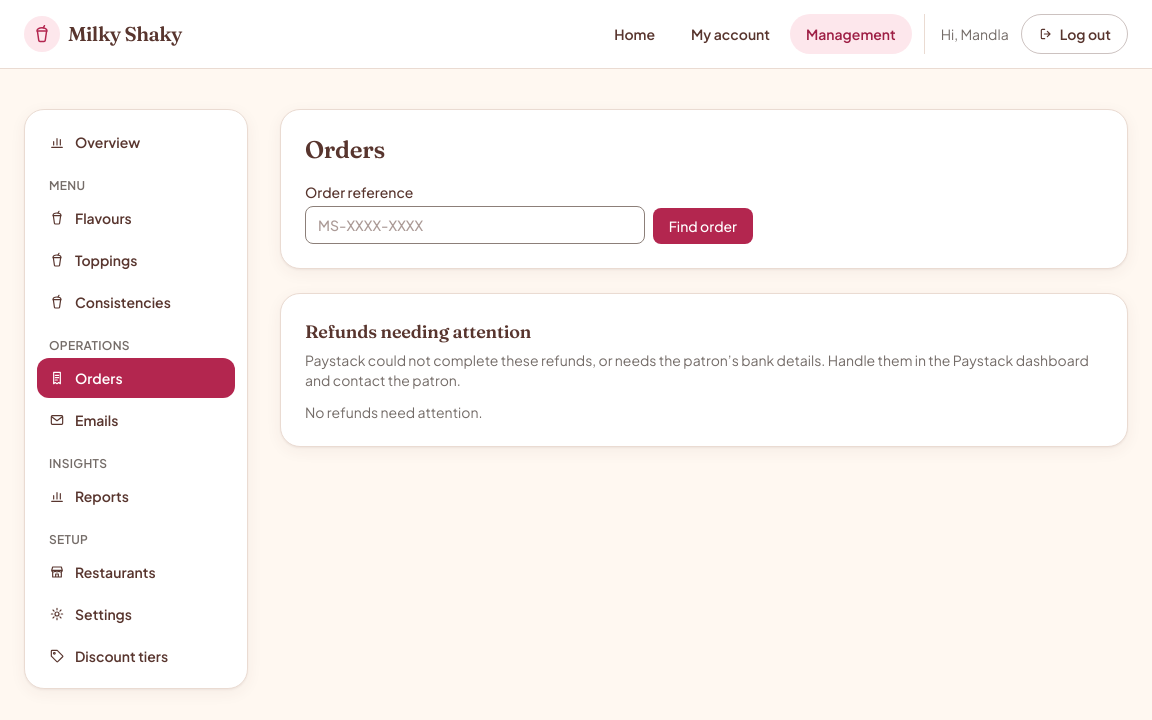
Management → Orders › says when no order has the reference
This screenshot has width=1152, height=720.
Type "MS-0000-0000" into the field labelled "Order reference" at (475, 225), box [305,206,645,244]
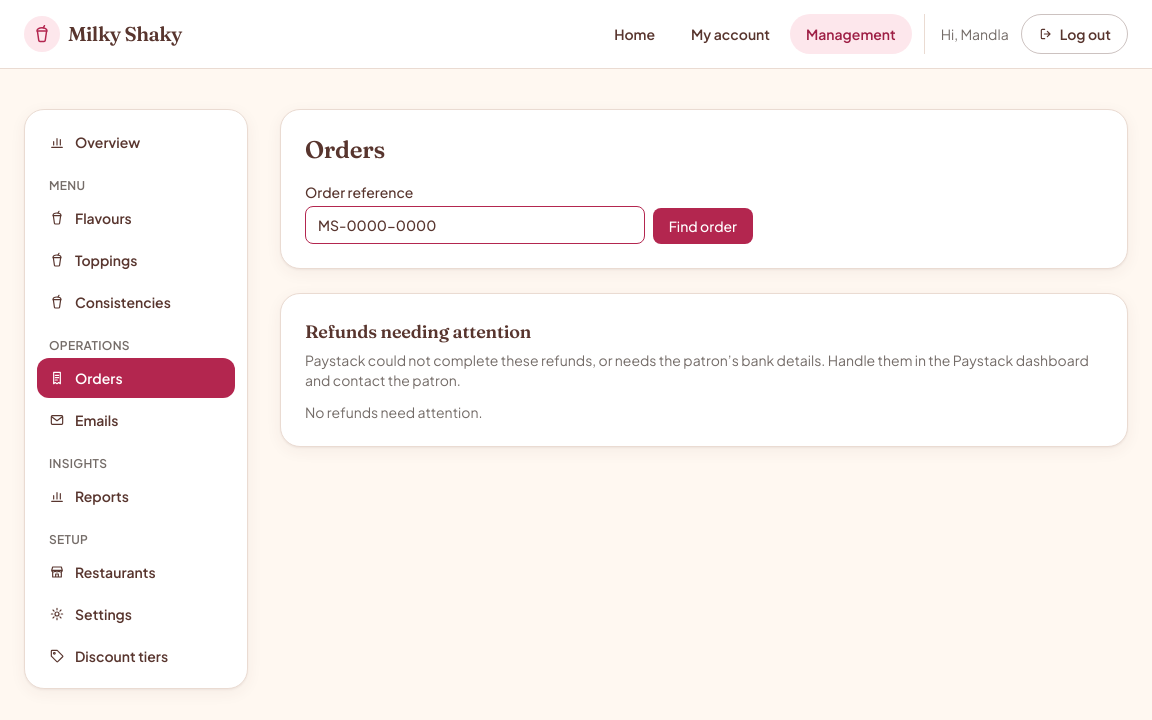
Click the button "Find order" at (703, 226), box [653,208,753,244]
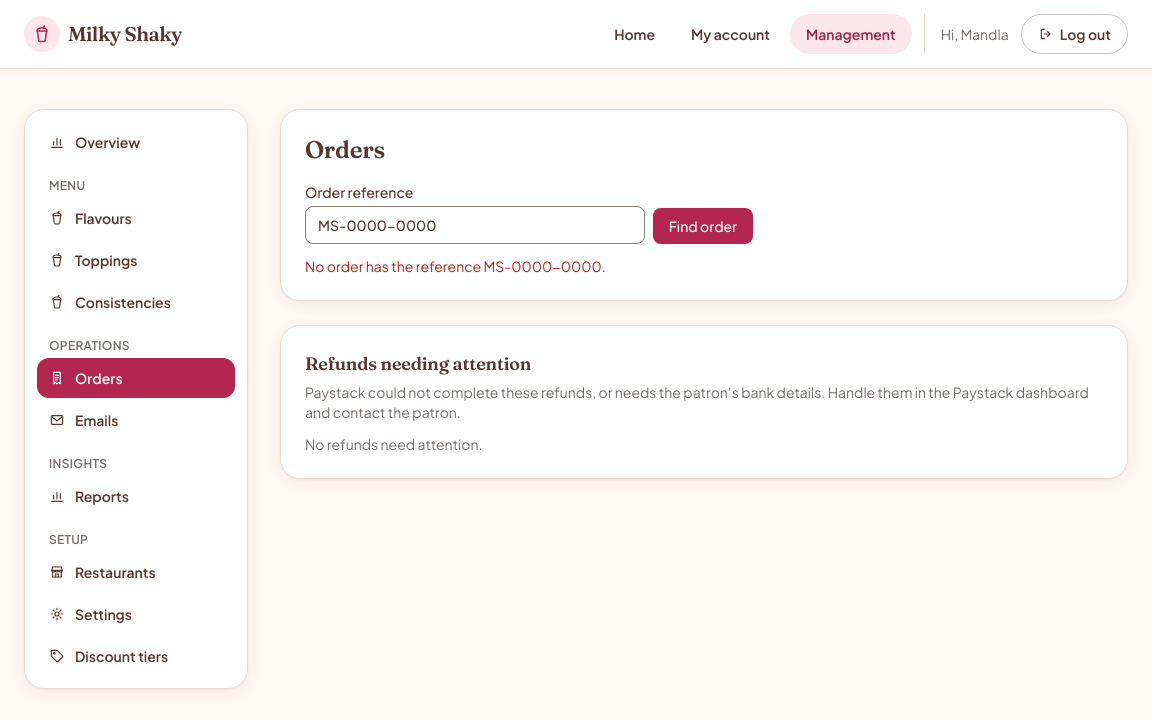
Check: the message reads "No order has the reference MS-0000-0000.", box [305,257,606,275]
